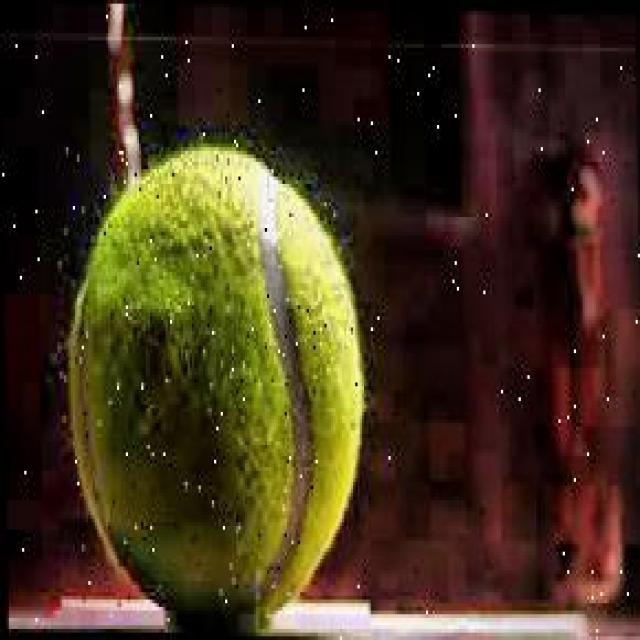tennis-ball: (55, 144, 371, 633)
